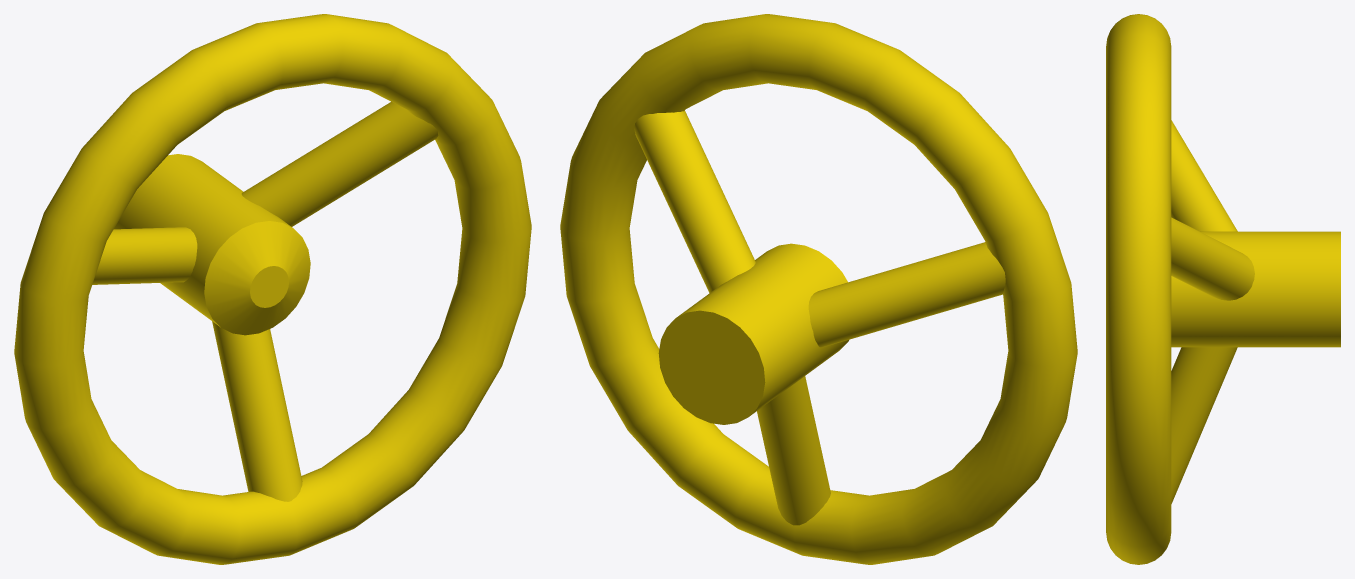
3 renders of one model, left to right at view 1: azimuth 30°, elevation 25°; view 2: azimuth 150°, elevation 25°; view 3: azimuth 270°, elevation 25°, orthographic. The views are drawn at different scales.
Visible parts, largest first — view 1: Group1/mesh1/mesh1-geometry#mesh1-geometry.007, mesh5/mesh5-geometry#mesh5-geometry.002, Component_1_2/Component_1/mesh2/mesh2-geometry#mesh2-geomet., Component_1_1/Component_1/mesh2/mesh2-geometry#mesh2-geomet., Component_1_3/Component_1/mesh2/mesh2-geometry#mesh2-geomet.; view 2: Group1/mesh1/mesh1-geometry#mesh1-geometry.007, mesh5/mesh5-geometry#mesh5-geometry.002, Component_1_3/Component_1/mesh2/mesh2-geometry#mesh2-geomet., Component_1_2/Component_1/mesh2/mesh2-geometry#mesh2-geomet., Component_1_1/Component_1/mesh2/mesh2-geometry#mesh2-geomet.; view 3: Group1/mesh1/mesh1-geometry#mesh1-geometry.007, mesh5/mesh5-geometry#mesh5-geometry.002, Component_1_1/Component_1/mesh2/mesh2-geometry#mesh2-geomet., Component_1_2/Component_1/mesh2/mesh2-geometry#mesh2-geomet., Component_1_3/Component_1/mesh2/mesh2-geometry#mesh2-geomet..
Part boxes in pixels (x1,y1,x2,y2): Group1/mesh1/mesh1-geometry#mesh1-geometry.007: (14, 14, 531, 564); mesh5/mesh5-geometry#mesh5-geometry.002: (114, 154, 310, 335); Component_1_2/Component_1/mesh2/mesh2-geometry#mesh2-geomet.: (241, 101, 438, 226); Component_1_1/Component_1/mesh2/mesh2-geometry#mesh2-geomet.: (212, 321, 302, 501); Component_1_3/Component_1/mesh2/mesh2-geometry#mesh2-geomet.: (92, 227, 197, 284); Group1/mesh1/mesh1-geometry#mesh1-geometry.007: (560, 14, 1077, 564); mesh5/mesh5-geometry#mesh5-geometry.002: (658, 243, 848, 424); Component_1_3/Component_1/mesh2/mesh2-geometry#mesh2-geomet.: (808, 242, 1005, 347); Component_1_2/Component_1/mesh2/mesh2-geometry#mesh2-geomet.: (634, 110, 755, 293); Component_1_1/Component_1/mesh2/mesh2-geometry#mesh2-geomet.: (757, 376, 830, 525); Group1/mesh1/mesh1-geometry#mesh1-geometry.007: (1106, 14, 1171, 564); mesh5/mesh5-geometry#mesh5-geometry.002: (1171, 231, 1340, 347); Component_1_1/Component_1/mesh2/mesh2-geometry#mesh2-geomet.: (1171, 347, 1237, 503); Component_1_2/Component_1/mesh2/mesh2-geometry#mesh2-geomet.: (1171, 217, 1254, 300); Component_1_3/Component_1/mesh2/mesh2-geometry#mesh2-geomet.: (1171, 120, 1237, 231).
Bounding box in the file's own units: 0.3131 × 0.1325 × 0.3131.
